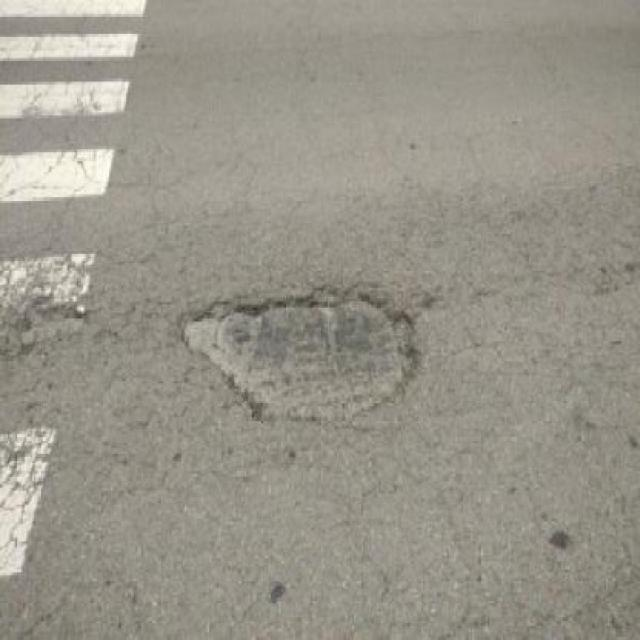Pothole: (176, 282, 430, 443)
